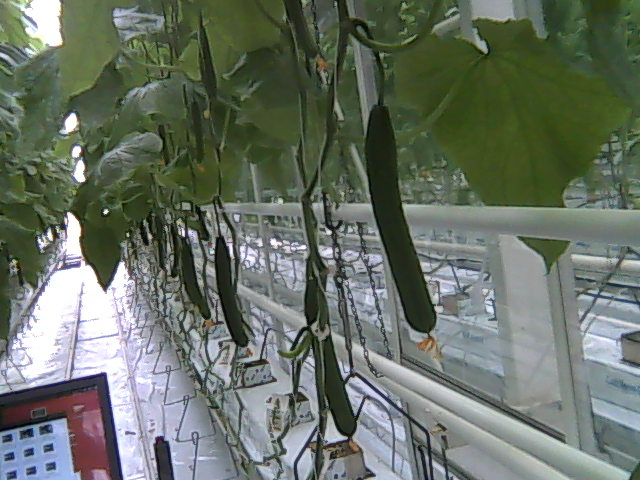concombre: (360, 100, 442, 363), (303, 273, 359, 456)
